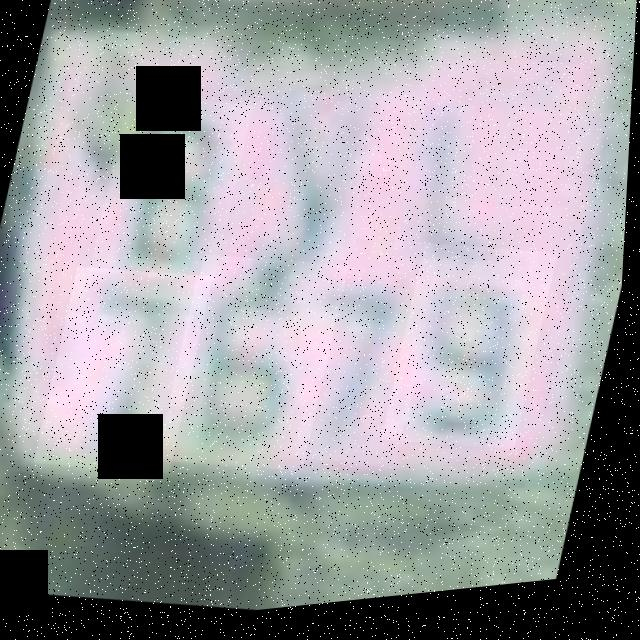6: (162, 247, 352, 489)
7: (37, 257, 218, 488), (278, 248, 445, 484)
9: (385, 242, 562, 471)
B: (91, 88, 255, 296)
